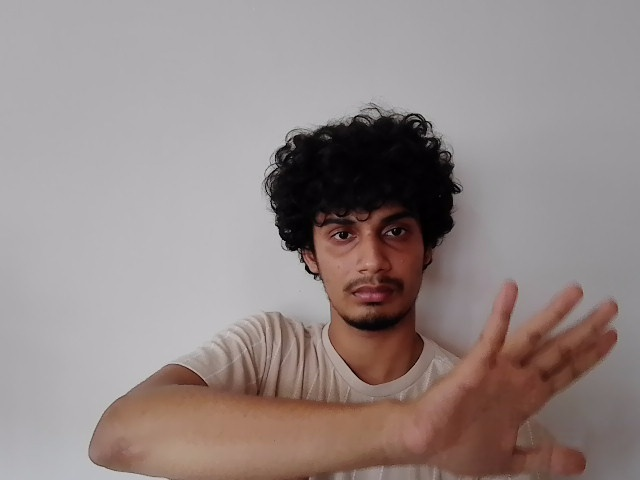goodbye: (425, 280, 624, 480)
